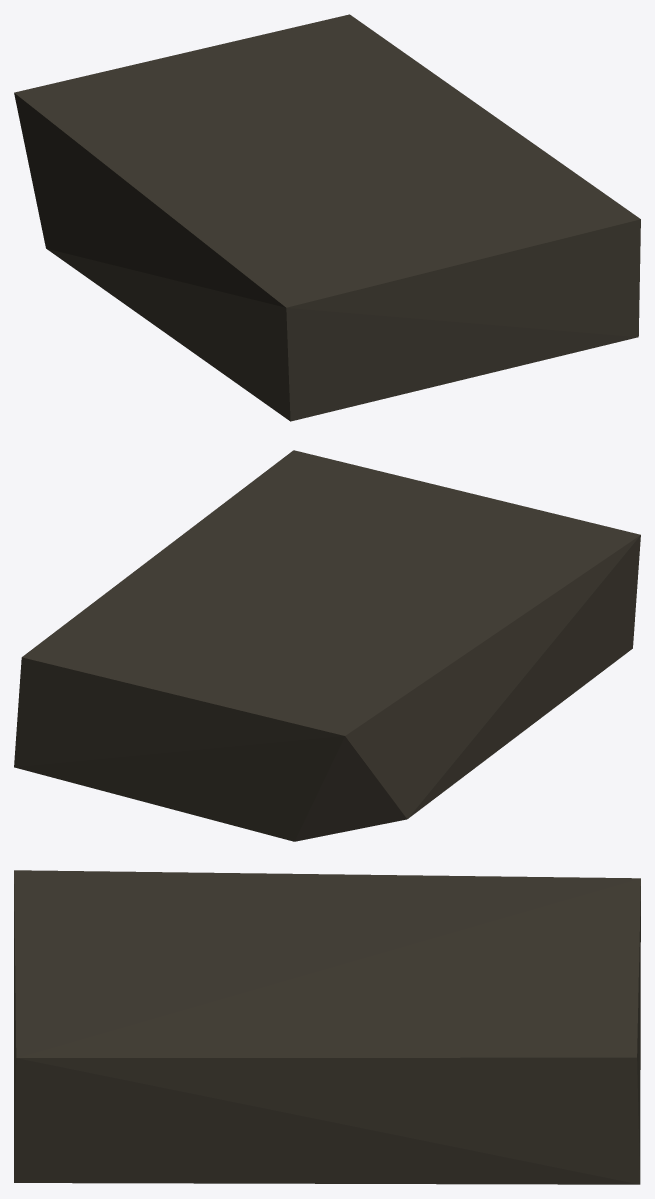
Rendered from Brick_Single_4.fbx.
3 renders of one model, top to bottom at view 1: azimuth 30°, elevation 25°; view 2: azimuth 150°, elevation 25°; view 3: azimuth 270°, elevation 25°, orthographic. The views are drawn at different scales.
Parts seen in each view (by area): view 1: Group32230; view 2: Group32230; view 3: Group32230.
Boxes of the visible parts, x1,y1,x2,y2 form: Group32230: [14, 14, 640, 421]; Group32230: [14, 450, 640, 841]; Group32230: [14, 870, 640, 1184].
Bounding box in the file's own units: 1.3 × 0.4264 × 1.82.
